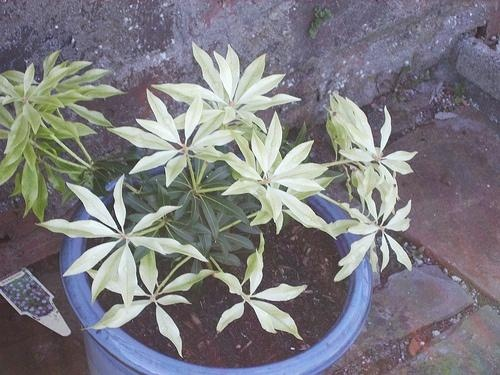pottedplant: (1, 42, 419, 375)
